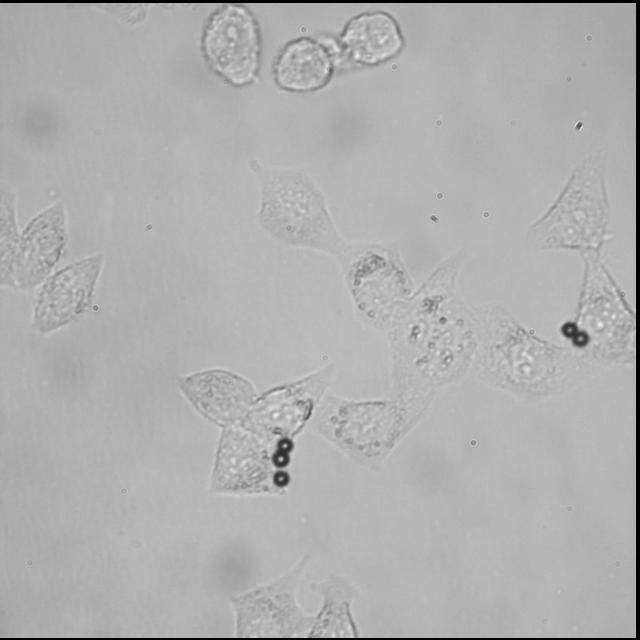microbeads: (270, 470, 294, 490), (269, 449, 293, 468), (277, 432, 299, 452), (560, 318, 578, 340), (574, 326, 592, 348)
